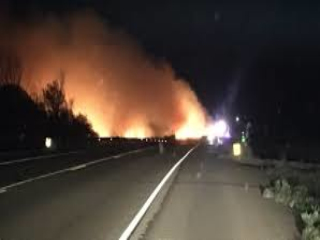smoke: (39, 46, 194, 136)
